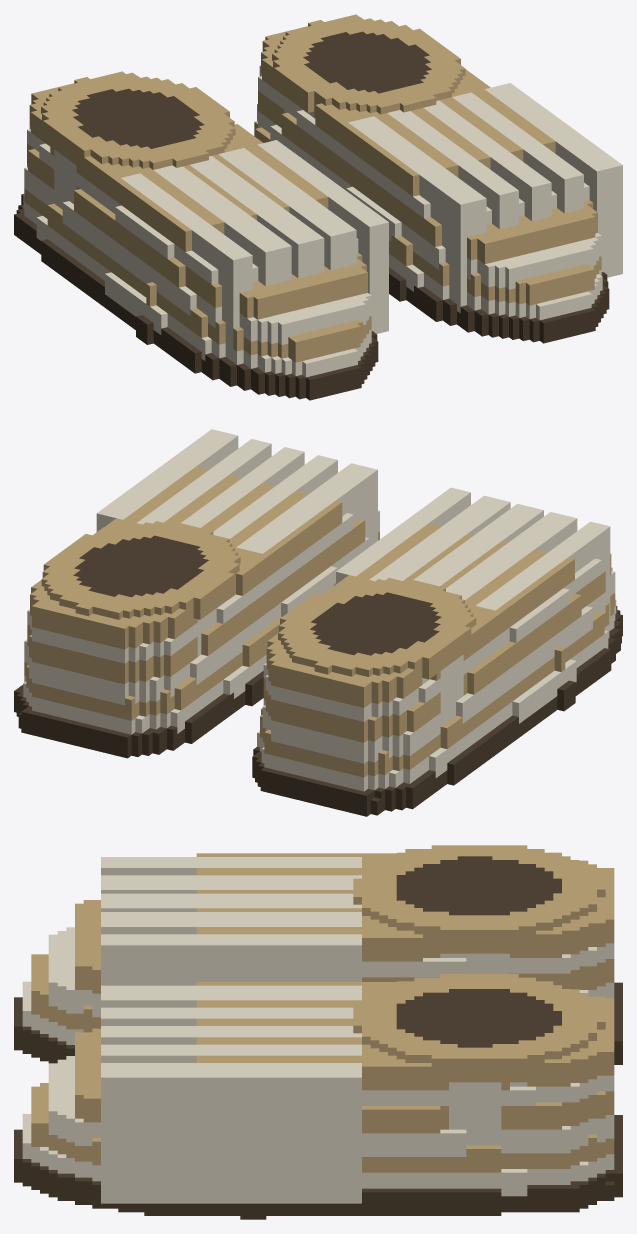
The model's file is birch_bark_shoes.glb.
3 views of the same model, one above another, from view 1: azimuth 30°, elevation 25°; view 2: azimuth 150°, elevation 25°; view 3: azimuth 270°, elevation 25° (orthographic). The views are drawn at different scales.
Parts seen in each view (by area): view 1: birch_bark_shoes:compound; view 2: birch_bark_shoes:compound; view 3: birch_bark_shoes:compound.
Boxes of the visible parts, box(x1,y1,x2,y2) form: birch_bark_shoes:compound: box(14, 14, 622, 400); birch_bark_shoes:compound: box(14, 429, 622, 816); birch_bark_shoes:compound: box(14, 845, 622, 1219).
Size of the model in its own units: 0.256 by 0.076 by 0.28.
